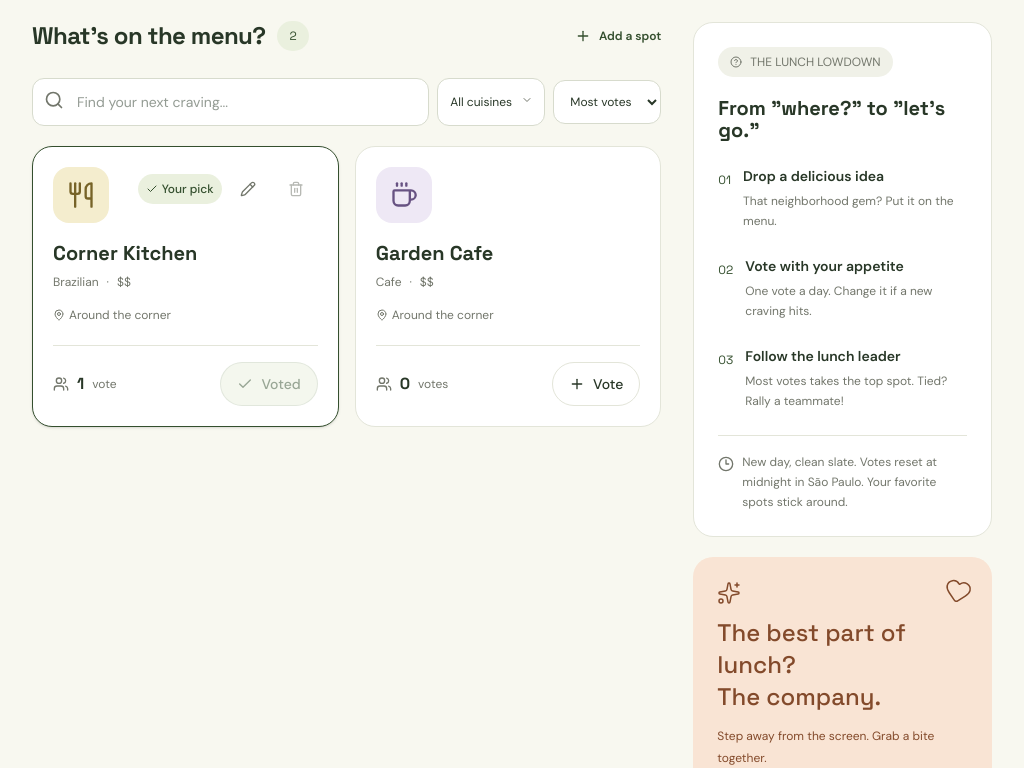
Test: Lunch Picker › changes the existing daily vote instead of adding a second vote
(page scrolled)
Click the button "Vote": (596, 384) [552,362,640,406]
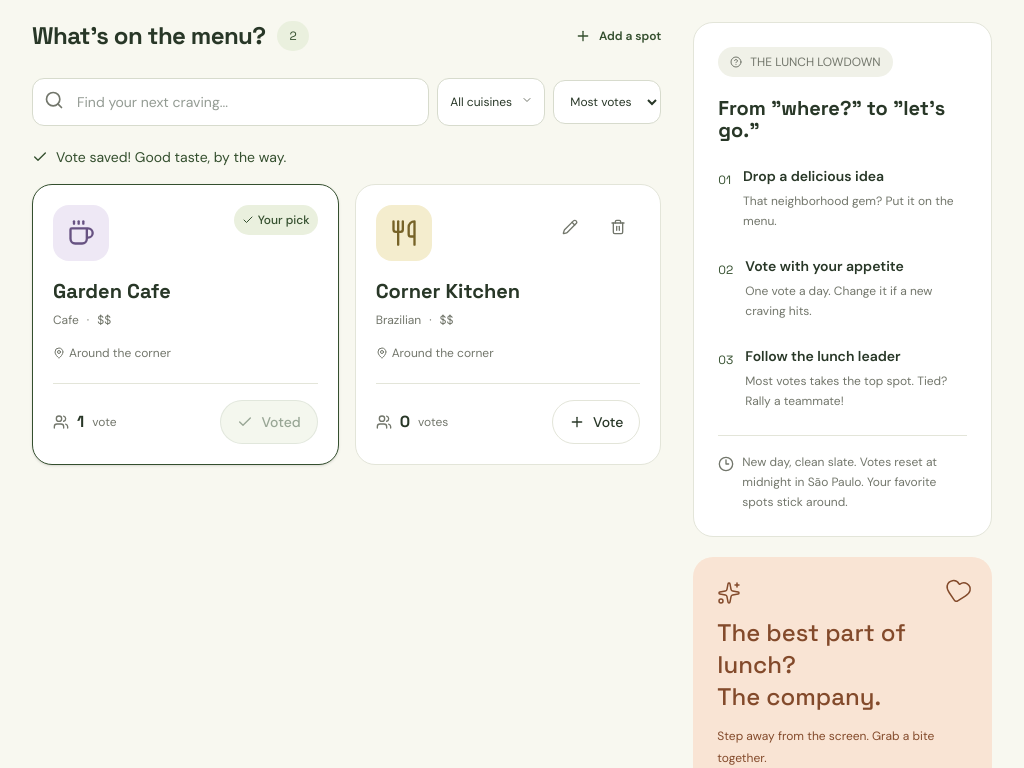
Check: the text "Vote saved! Good taste, by the way." is shown, box [32,148,286,166]
